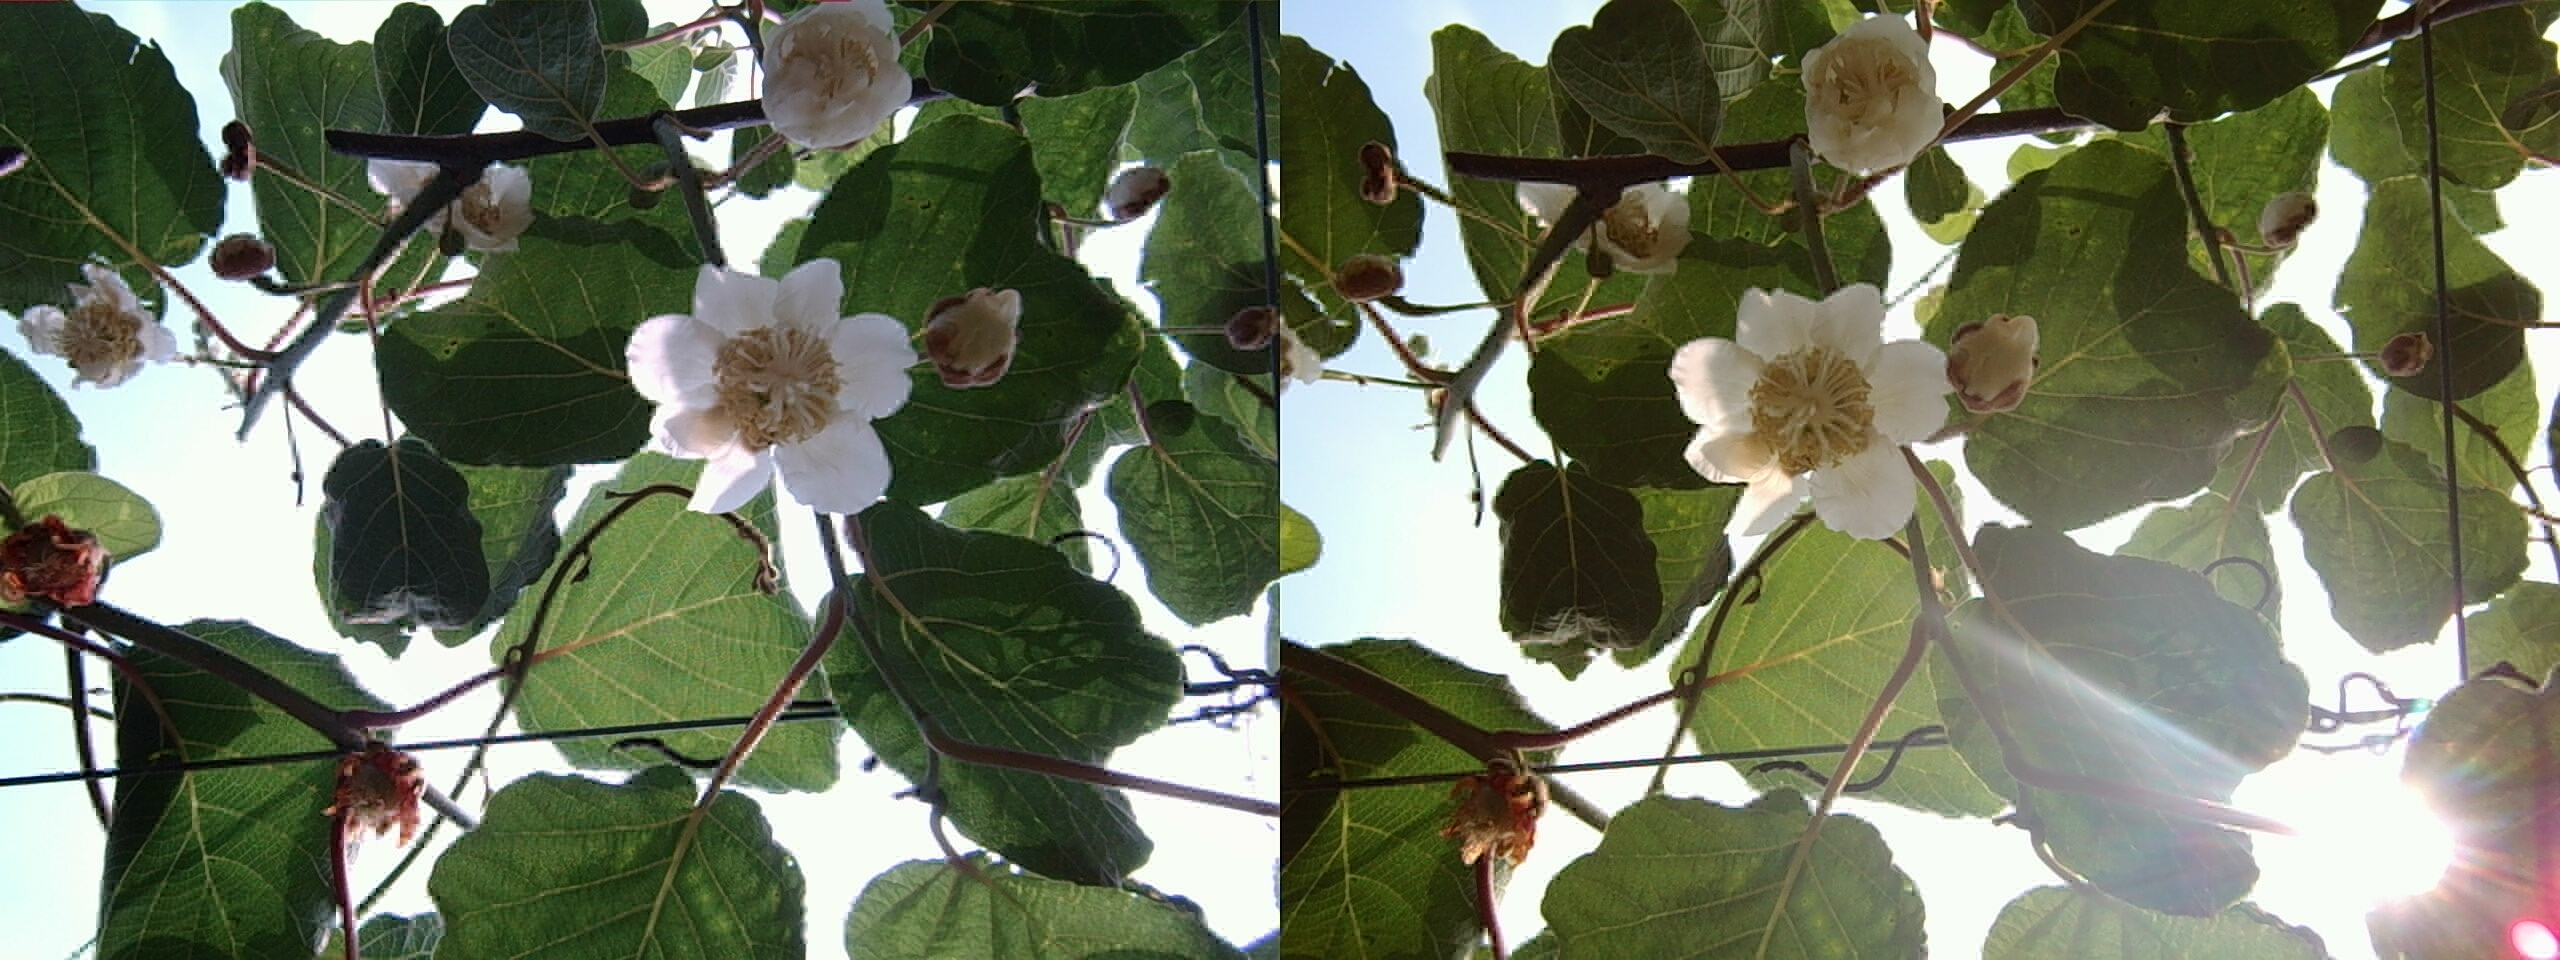flower: (1670, 276, 1946, 532), (637, 251, 913, 501), (1801, 15, 1941, 171), (16, 260, 170, 385), (1941, 309, 2033, 411)
